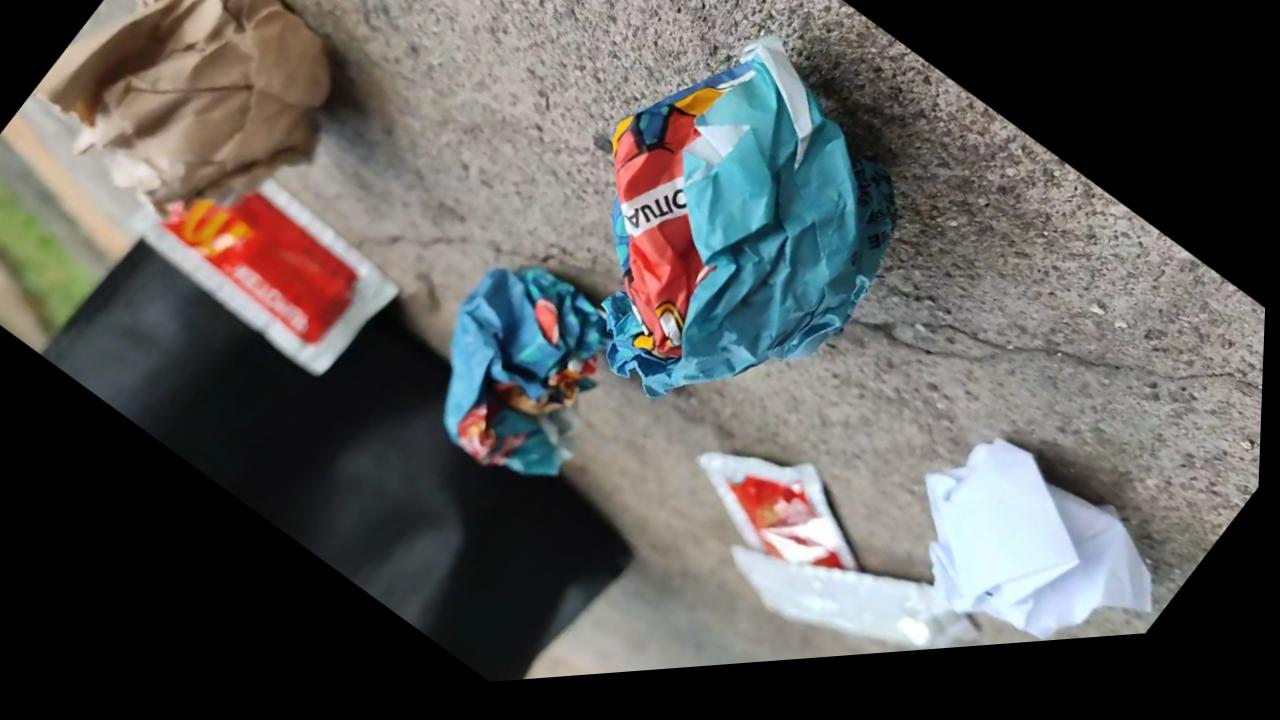paper: (446, 36, 894, 474), (5, 0, 392, 293), (869, 440, 1151, 643), (444, 268, 624, 475)
